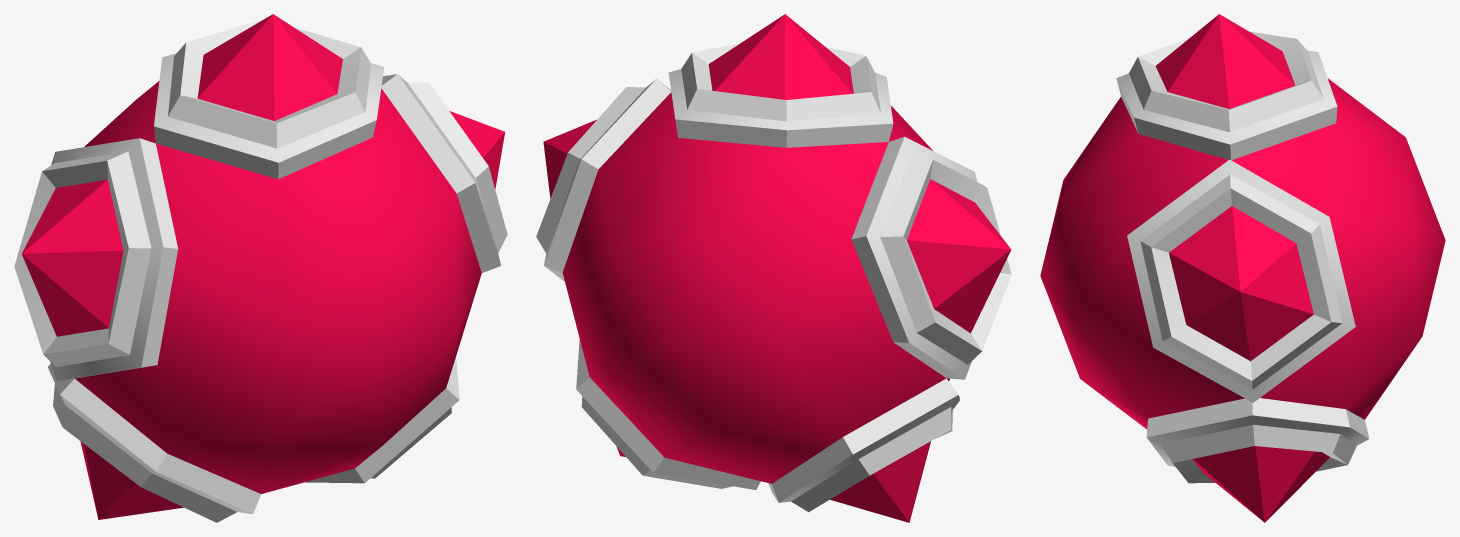
File: geo_item_attack.fbx
3 views of the same model, side by side, from view 1: azimuth 30°, elevation 25°; view 2: azimuth 150°, elevation 25°; view 3: azimuth 270°, elevation 25° (orthographic). The views are drawn at different scales.
Parts seen in each view (by area): view 1: Icosphere; view 2: Icosphere; view 3: Icosphere.
Part boxes in pixels (x1,y1,x2,y2): Icosphere: (14,14,507,522); Icosphere: (536,14,1011,522); Icosphere: (1040,14,1445,522).
Size of the model in its own units: 253 by 244 by 199.
